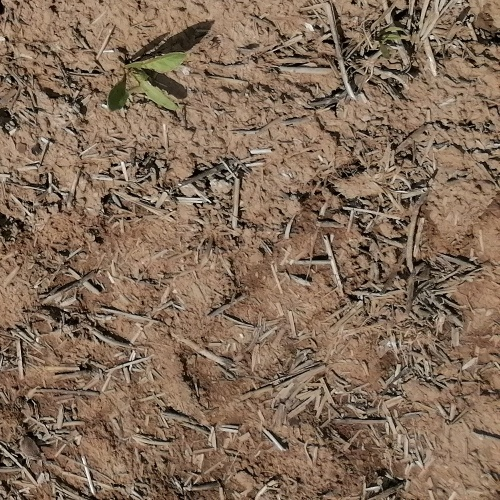beet: (107, 50, 187, 113)
